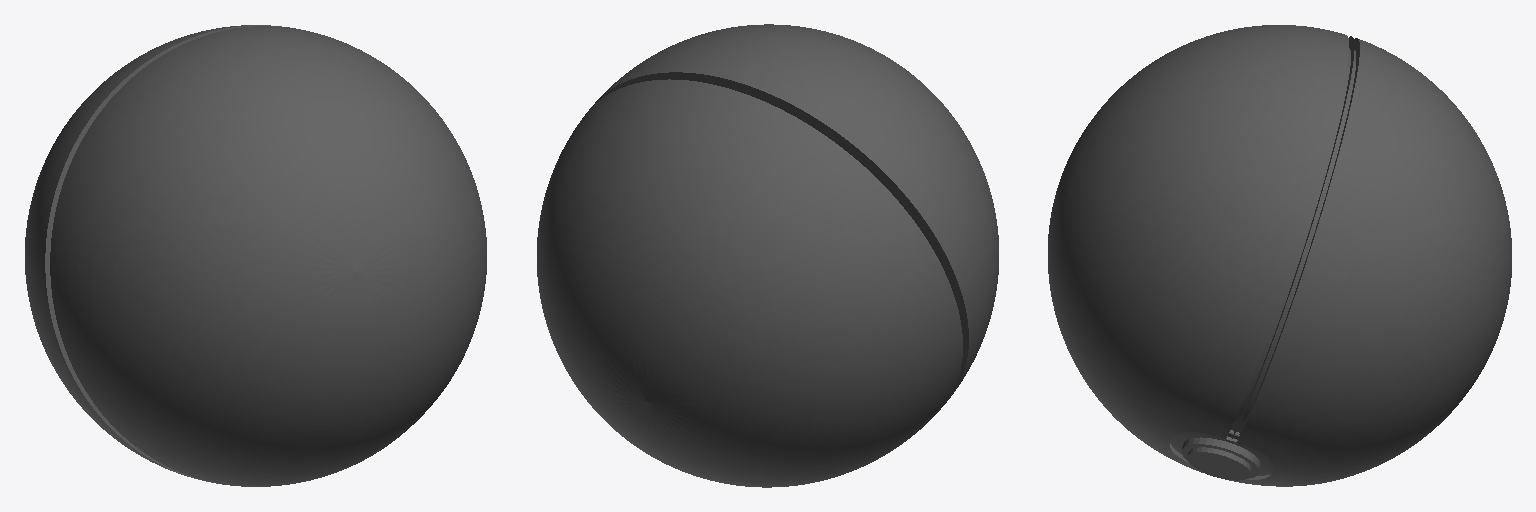
The model's file is pokeball.obj.
3 views of the same model, side by side, from view 1: azimuth 30°, elevation 25°; view 2: azimuth 150°, elevation 25°; view 3: azimuth 270°, elevation 25° (orthographic).
Visible parts, largest first — view 1: Sphere; view 2: Sphere; view 3: Sphere.
Part boxes in pixels (bbox=[...]): Sphere: bbox=[25, 25, 486, 486]; Sphere: bbox=[537, 24, 998, 487]; Sphere: bbox=[1048, 25, 1511, 486].
Size of the model in its own units: 8 by 8.01 by 8.05.